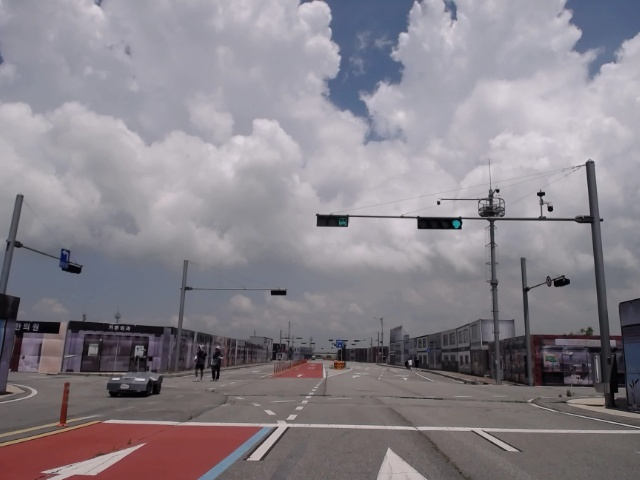straight_green_4: (418, 219, 461, 228)
